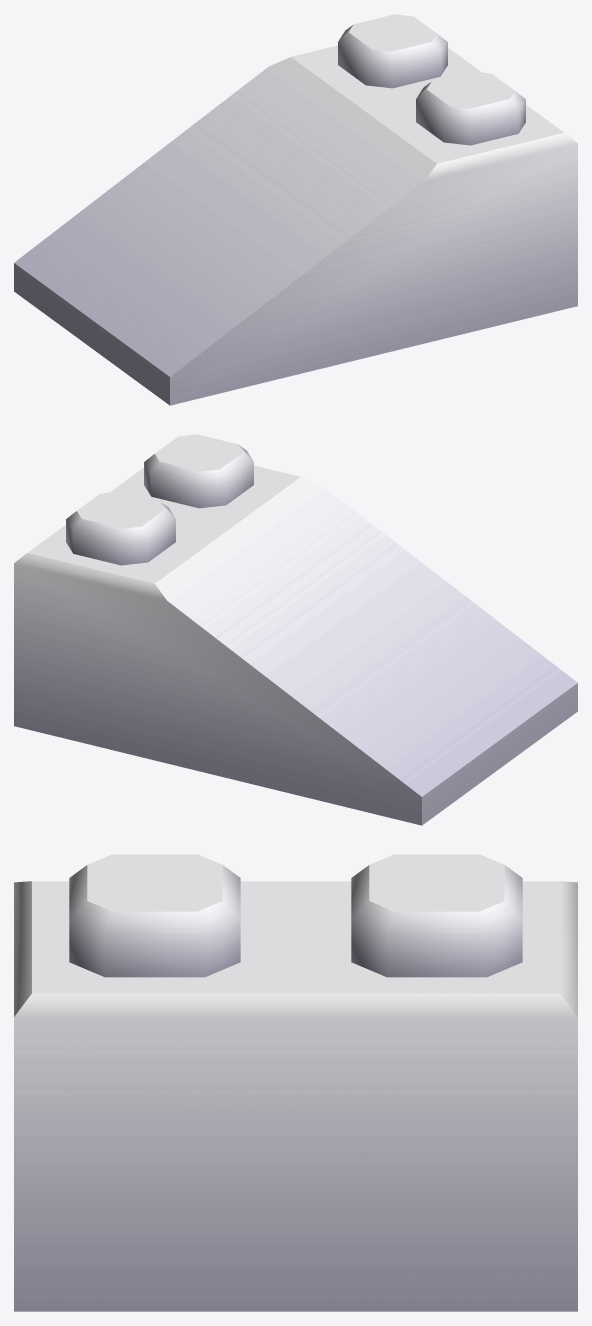
Rendered from bevel_hq_brick_slope_3x2.glb.
3 renders of one model, top to bottom at view 1: azimuth 30°, elevation 25°; view 2: azimuth 150°, elevation 25°; view 3: azimuth 270°, elevation 25°, orthographic. The views are drawn at different scales.
Parts seen in each view (by area): view 1: bevel-hq-brick-slope-3x2; view 2: bevel-hq-brick-slope-3x2; view 3: bevel-hq-brick-slope-3x2.
Part boxes in pixels (box(x1,y1,x2,y2)): bevel-hq-brick-slope-3x2: box(14, 14, 577, 405); bevel-hq-brick-slope-3x2: box(14, 434, 577, 825); bevel-hq-brick-slope-3x2: box(14, 854, 577, 1311).
Bounding box in the file's own units: 0.2385 × 0.114 × 0.158.
Materials: 1 (1 with a texture image).
